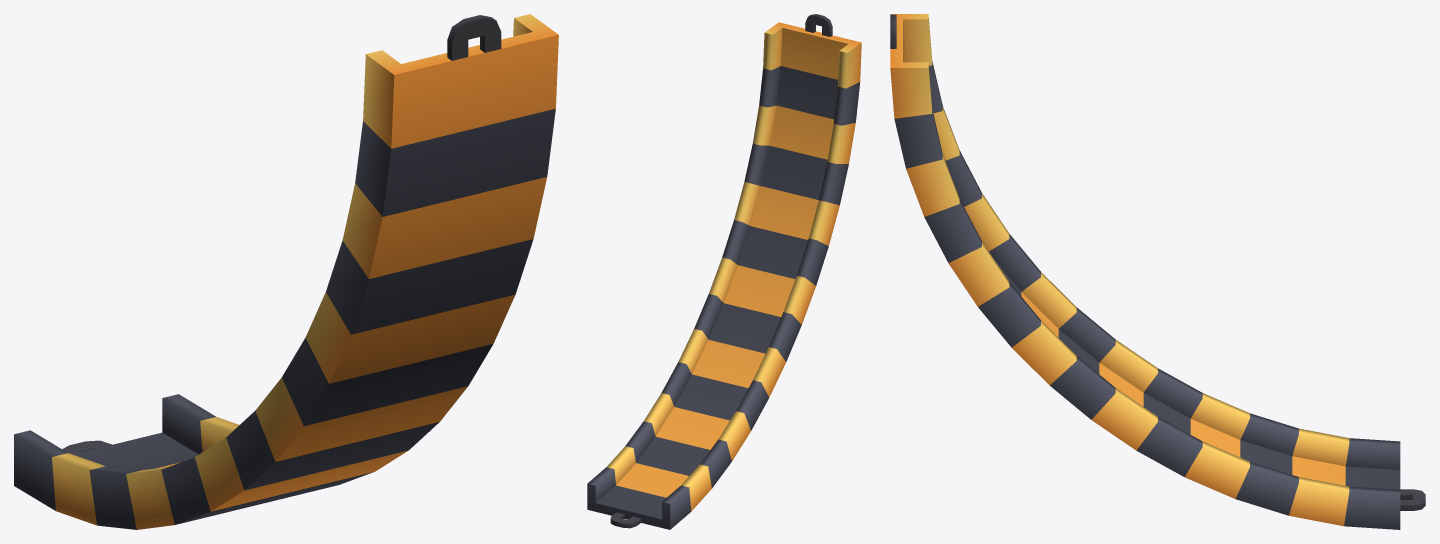
Rendered from track-striped-narrow-straight-bend-large.fbx.
The picture shows the model from 3 angles, left to right: view 1: azimuth 30°, elevation 25°; view 2: azimuth 150°, elevation 25°; view 3: azimuth 270°, elevation 25°; orthographic projection. The views are drawn at different scales.
Visible parts, largest first — view 1: track-striped-narrow-straight-bend-large; view 2: track-striped-narrow-straight-bend-large; view 3: track-striped-narrow-straight-bend-large.
Boxes of the visible parts, x1,y1,x2,y2 form: track-striped-narrow-straight-bend-large: (14, 14, 558, 529); track-striped-narrow-straight-bend-large: (587, 14, 861, 529); track-striped-narrow-straight-bend-large: (890, 14, 1425, 529).
Bounding box in the file's own units: 100 × 420 × 420.
